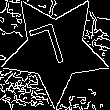L_S: (33, 20, 77, 78)
